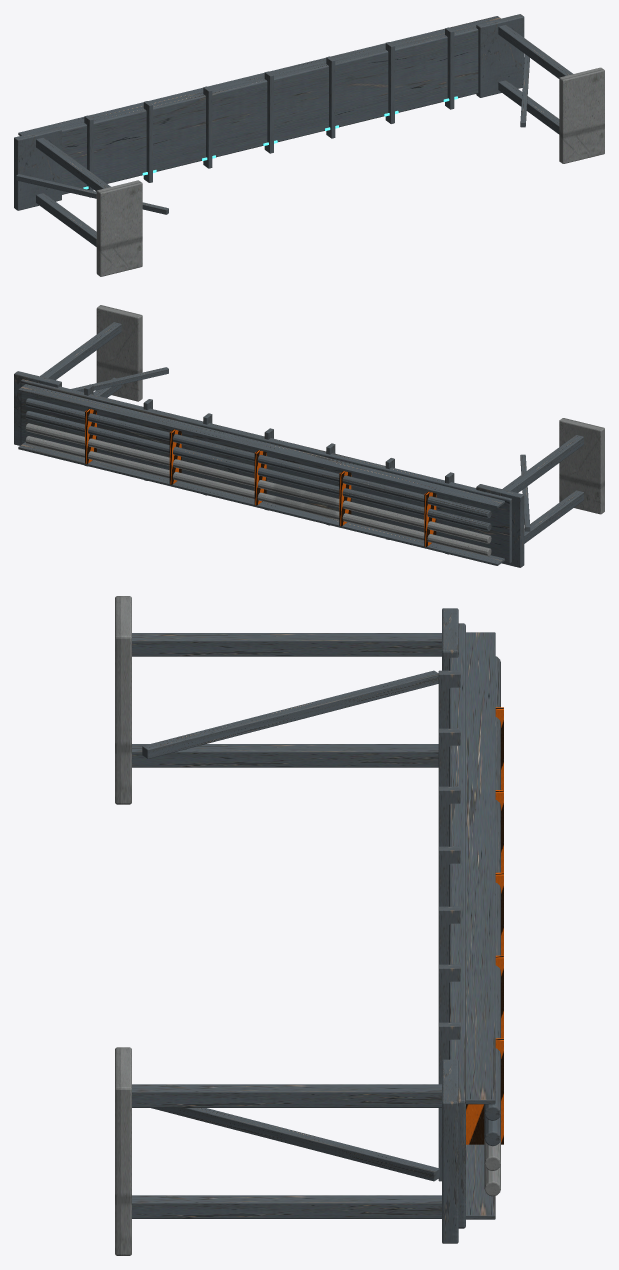
Rendered from overhead_gantry.glb.
The picture shows the model from 3 angles, top to bottom: view 1: azimuth 30°, elevation 25°; view 2: azimuth 150°, elevation 25°; view 3: azimuth 270°, elevation 25°; orthographic projection. The views are drawn at different scales.
Parts seen in each view (by area): view 1: BridgeDeck, GantryFoot_-10.9, GantryFoot_10.9, GantryTowerCap_10.9, GantryTowerCap_-10.9, BridgeRail_1.3, GantryColumn_10.91.25, GantryColumn_-10.91.25, GantryColumn_-10.9-1.25, GantryColumn_10.9-1.25, DiagonalBrace_-10.2, BridgeRib_8.5 (+7 smaller); view 2: BridgeDeck, BridgeRail_1.3, OverheadPipe_0.85, OverheadPipe_-0.28, OverheadPipe_-0.85, OverheadPipe_0.28, BridgeRail_-1.3, GantryFoot_-10.9, GantryFoot_10.9, GantryTowerCap_-10.9, GantryColumn_10.91.25, GantryColumn_-10.91.25 (+9 smaller); view 3: BridgeRail_1.3, GantryColumn_-10.91.25, GantryColumn_10.9-1.25, GantryColumn_10.91.25, BridgeDeck, GantryColumn_-10.9-1.25, DiagonalBrace_-10.2, DiagonalBrace_10.2, GantryFoot_-10.9, GantryFoot_10.9, GantryTowerCap_10.9, OverheadPipe_0.85 (+10 smaller).
Part boxes in pixels (box(x1,y1,x2,y2)): BridgeDeck: box(60, 26, 478, 194); GantryFoot_-10.9: box(96, 180, 142, 276); GantryFoot_10.9: box(559, 67, 604, 163); GantryTowerCap_10.9: box(476, 14, 524, 97); GantryTowerCap_-10.9: box(14, 127, 61, 210); BridgeRail_1.3: box(18, 16, 500, 135); GantryColumn_10.91.25: box(498, 25, 572, 78); GantryColumn_-10.91.25: box(36, 137, 110, 191); GantryColumn_-10.9-1.25: box(36, 193, 96, 246); GantryColumn_10.9-1.25: box(498, 80, 559, 134); DiagonalBrace_-10.2: box(16, 174, 168, 214); BridgeRib_8.5: box(445, 27, 454, 109); BridgeDeck: box(20, 379, 511, 563); BridgeRail_1.3: box(18, 384, 504, 508); OverheadPipe_0.85: box(25, 398, 491, 518); OverheadPipe_-0.28: box(25, 423, 491, 543); OverheadPipe_-0.85: box(25, 436, 491, 556); OverheadPipe_0.28: box(25, 411, 491, 531); BridgeRail_-1.3: box(18, 442, 504, 565); GantryFoot_-10.9: box(559, 418, 604, 514); GantryFoot_10.9: box(96, 305, 142, 401); GantryTowerCap_-10.9: box(476, 484, 524, 567); GantryColumn_10.91.25: box(40, 322, 121, 380); GantryColumn_-10.91.25: box(502, 435, 583, 492); BridgeRail_1.3: box(466, 632, 495, 1104); GantryColumn_-10.91.25: box(132, 633, 441, 656); GantryColumn_10.9-1.25: box(132, 1195, 441, 1218); GantryColumn_10.91.25: box(132, 1084, 441, 1107); BridgeDeck: box(449, 623, 465, 1228); GantryColumn_-10.9-1.25: box(132, 744, 438, 767); DiagonalBrace_-10.2: box(142, 670, 438, 758); DiagonalBrace_10.2: box(151, 1108, 439, 1181); GantryFoot_-10.9: box(115, 596, 131, 804); GantryFoot_10.9: box(115, 1047, 131, 1255); GantryTowerCap_10.9: box(442, 1059, 458, 1243); OverheadPipe_0.85: box(484, 656, 500, 1120).
Bounding box in the file's own units: 24.23 × 3.8 × 7.95.
5 materials, 5 textured.
